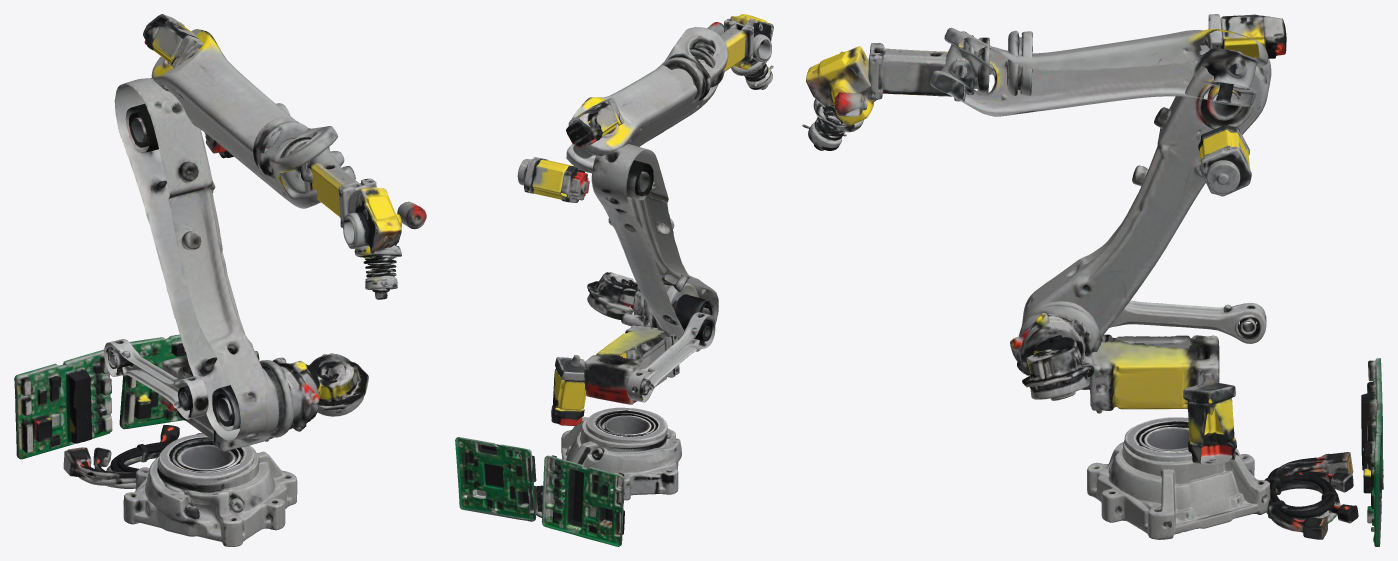
Rendered from robot-arm-parts.glb.
3 renders of one model, left to right at view 1: azimuth 30°, elevation 25°; view 2: azimuth 150°, elevation 25°; view 3: azimuth 270°, elevation 25°, orthographic. The views are drawn at different scales.
Visible parts, largest first — view 1: lower-link, base-housing, upper-arm, control-board-a, connecting-rod, cable-harness, control-board-b, wrist-motor-block, gearbox-a, wrist-bracket, servo-motor-b, bearing-hub-a (+8 smaller); view 2: lower-link, upper-arm, base-housing, control-board-a, control-board-b, junction-box, connecting-rod, servo-motor-c, servo-motor-a, gearbox-a, servo-motor-b, wrist-bracket (+7 smaller); view 3: upper-arm, lower-link, base-housing, junction-box, cable-harness, connecting-rod, wrist-bracket, servo-motor-a, gearbox-a, servo-motor-c, wrist-motor-block, servo-motor-b (+8 smaller).
Part boxes in pixels (left/top/right/bottom): lower-link: left=114, top=77, right=270, bottom=440; base-housing: left=123, top=433, right=297, bottom=546; upper-arm: left=151, top=29, right=355, bottom=208; control-board-a: left=14, top=349, right=112, bottom=459; connecting-rod: left=104, top=339, right=208, bottom=419; cable-harness: left=63, top=425, right=202, bottom=488; control-board-b: left=119, top=334, right=186, bottom=429; wrist-motor-block: left=343, top=187, right=401, bottom=258; gearbox-a: left=306, top=353, right=368, bottom=416; wrist-bracket: left=304, top=151, right=376, bottom=227; servo-motor-b: left=143, top=14, right=203, bottom=67; bearing-hub-a: left=251, top=360, right=293, bottom=438; lower-link: left=591, top=144, right=718, bottom=339; upper-arm: left=566, top=27, right=728, bottom=173; base-housing: left=561, top=407, right=681, bottom=500; control-board-a: left=541, top=455, right=624, bottom=546; control-board-b: left=455, top=437, right=537, bottom=521; junction-box: left=584, top=325, right=679, bottom=404; connecting-rod: left=626, top=312, right=715, bottom=402; servo-motor-c: left=517, top=157, right=589, bottom=202; servo-motor-a: left=551, top=355, right=586, bottom=426; gearbox-a: left=587, top=272, right=637, bottom=319; servo-motor-b: left=566, top=97, right=624, bottom=148; wrist-bracket: left=720, top=18, right=753, bottom=71; upper-arm: left=930, top=27, right=1268, bottom=116; lower-link: left=1022, top=58, right=1271, bottom=336; base-housing: left=1087, top=417, right=1270, bottom=539; junction-box: left=1082, top=334, right=1219, bottom=413; cable-harness: left=1264, top=452, right=1358, bottom=539; connecting-rod: left=1109, top=300, right=1266, bottom=343; wrist-bracket: left=868, top=43, right=965, bottom=101; servo-motor-a: left=1183, top=372, right=1236, bottom=465; gearbox-a: left=1022, top=335, right=1091, bottom=400; servo-motor-c: left=1198, top=124, right=1251, bottom=196; wrist-motor-block: left=806, top=46, right=876, bottom=126; servo-motor-b: left=1199, top=14, right=1286, bottom=58.
Bounding box in the file's own units: 0.8803 × 1.94 × 2.09.
Materials: 1 (1 with a texture image).
